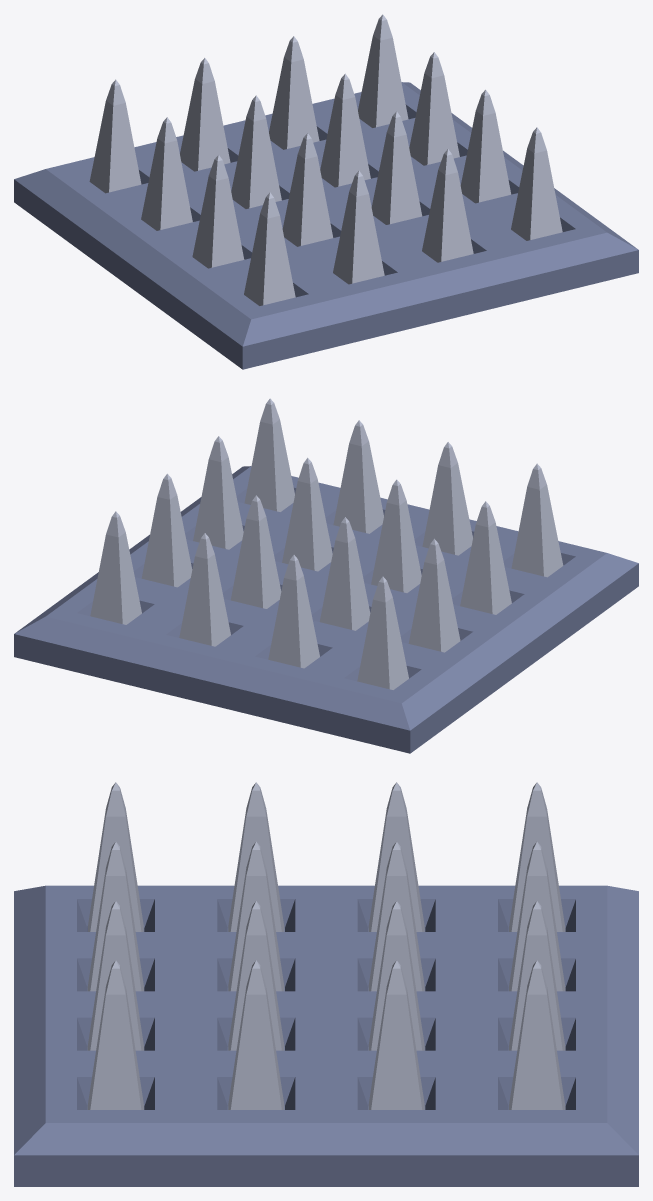
Rendered from spikes.glb.
The picture shows the model from 3 angles, top to bottom: view 1: azimuth 30°, elevation 25°; view 2: azimuth 150°, elevation 25°; view 3: azimuth 270°, elevation 25°; orthographic projection. The views are drawn at different scales.
Visible parts, largest first — view 1: spikes, prickle; view 2: spikes, prickle; view 3: spikes, prickle.
Part boxes in pixels (bbox=[...]): spikes: bbox=[14, 82, 638, 369]; prickle: bbox=[89, 14, 562, 305]; spikes: bbox=[14, 466, 638, 753]; prickle: bbox=[90, 398, 563, 689]; spikes: bbox=[14, 885, 638, 1186]; prickle: bbox=[87, 782, 565, 1109].
Size of the model in its own units: 0.9668 by 0.3134 by 0.9668.
